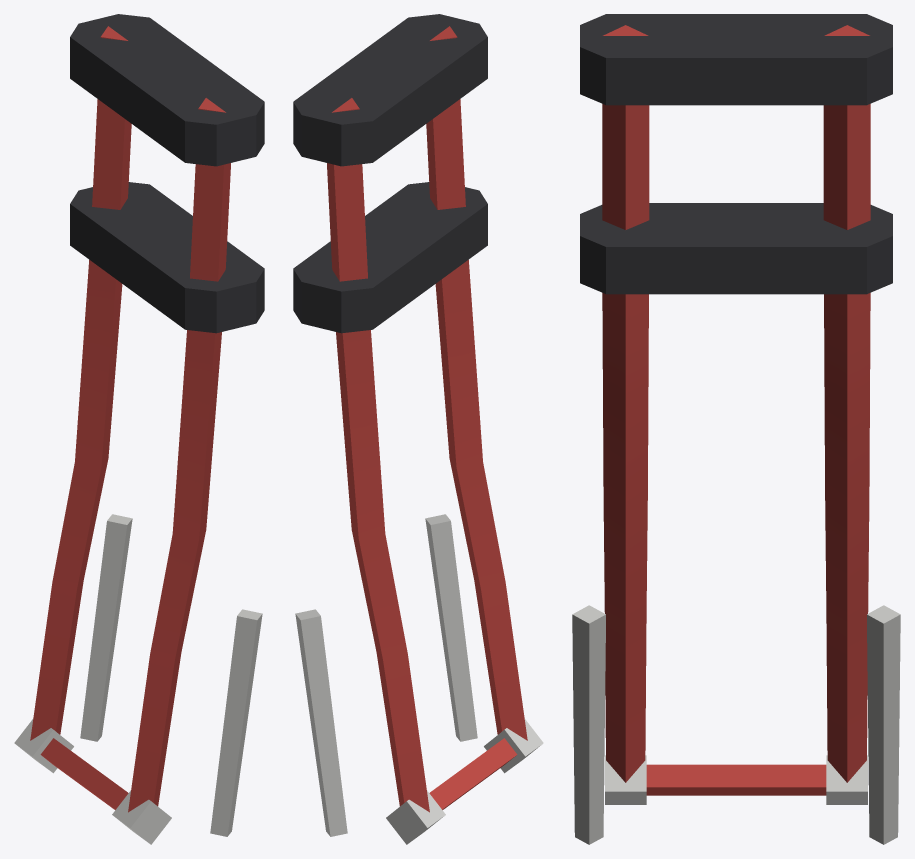
File: classic_leading_link_upper_lod2.glb
3 renders of one model, left to right at view 1: azimuth 30°, elevation 25°; view 2: azimuth 150°, elevation 25°; view 3: azimuth 270°, elevation 25°, orthographic. The views are drawn at different scales.
Visible parts, largest first — view 1: classic_leading_link_upper_lod2; view 2: classic_leading_link_upper_lod2; view 3: classic_leading_link_upper_lod2.
Boxes of the visible parts, x1=… form: classic_leading_link_upper_lod2: x1=14, y1=14, x2=264, y2=844; classic_leading_link_upper_lod2: x1=293, y1=14, x2=543, y2=844; classic_leading_link_upper_lod2: x1=572, y1=14, x2=900, y2=844.
Size of the model in its own units: 0.1355 by 0.6867 by 0.252.
